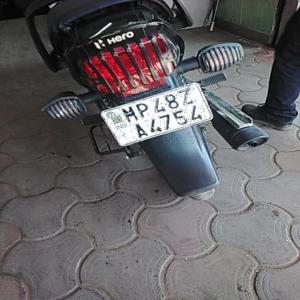Plate: (102, 84, 211, 144)
